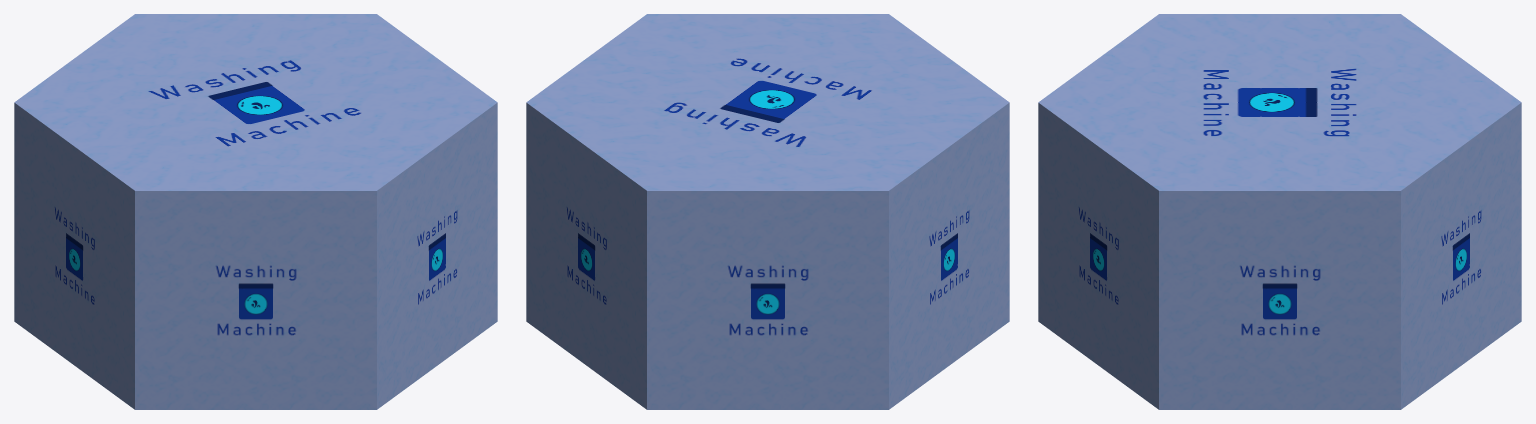
File: Tile_Washing_Machine.fbx
3 renders of one model, left to right at view 1: azimuth 30°, elevation 25°; view 2: azimuth 150°, elevation 25°; view 3: azimuth 270°, elevation 25°, orthographic.
Visible parts, largest first — view 1: Tile_Washing_Machine; view 2: Tile_Washing_Machine; view 3: Tile_Washing_Machine.
Boxes of the visible parts, x1,y1,x2,y2 form: Tile_Washing_Machine: (14,14,497,409); Tile_Washing_Machine: (526,14,1009,409); Tile_Washing_Machine: (1038,14,1521,409).
Size of the model in its own units: 1.73 by 1 by 2.
